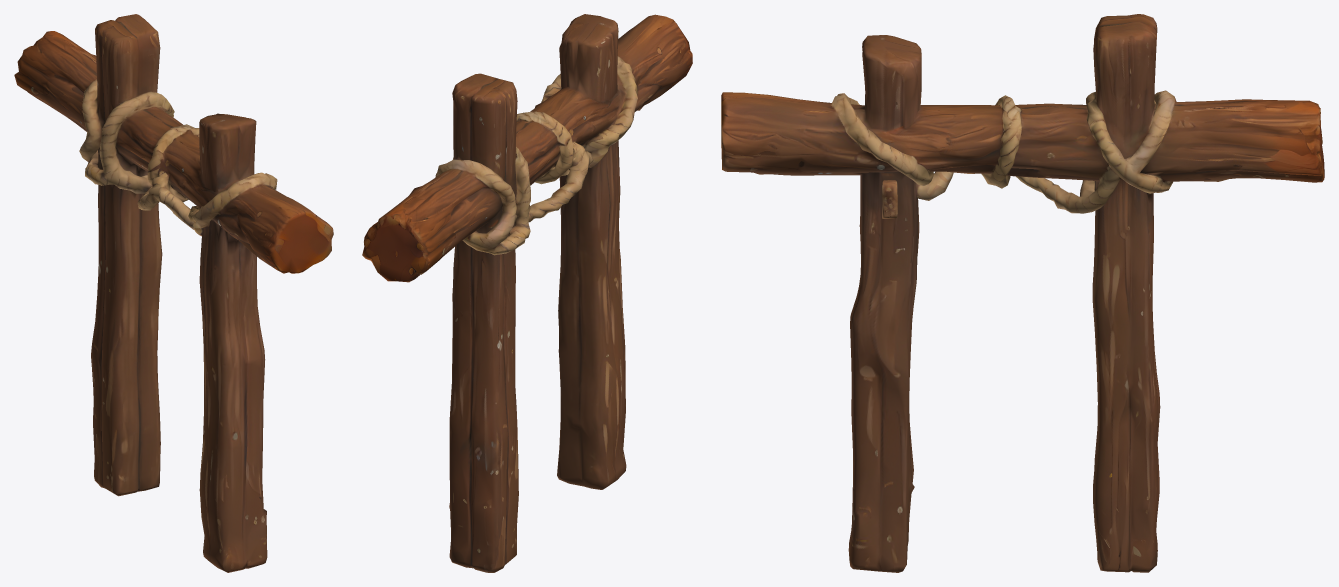
File: timber-model.glb
3 renders of one model, left to right at view 1: azimuth 30°, elevation 25°; view 2: azimuth 150°, elevation 25°; view 3: azimuth 270°, elevation 25°, orthographic. The views are drawn at different scales.
Parts seen in each view (by area): view 1: tripo_node_b29f7e69-c4a9-4780-ba48-0bbca34a8c32; view 2: tripo_node_b29f7e69-c4a9-4780-ba48-0bbca34a8c32; view 3: tripo_node_b29f7e69-c4a9-4780-ba48-0bbca34a8c32.
Part boxes in pixels (box(x1,y1,x2,y2)): tripo_node_b29f7e69-c4a9-4780-ba48-0bbca34a8c32: box(14, 14, 333, 572); tripo_node_b29f7e69-c4a9-4780-ba48-0bbca34a8c32: box(362, 14, 692, 572); tripo_node_b29f7e69-c4a9-4780-ba48-0bbca34a8c32: box(721, 14, 1324, 572).
Bounding box in the file's own units: 0.1865 × 0.9898 × 0.9998.
1 material, 1 textured.
